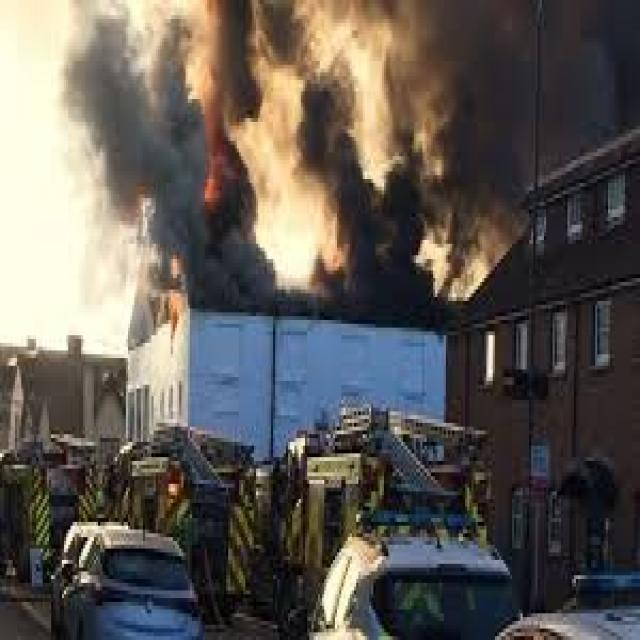Smoke: (58, 12, 264, 300), (296, 93, 426, 298), (426, 37, 525, 242), (225, 0, 314, 79)
